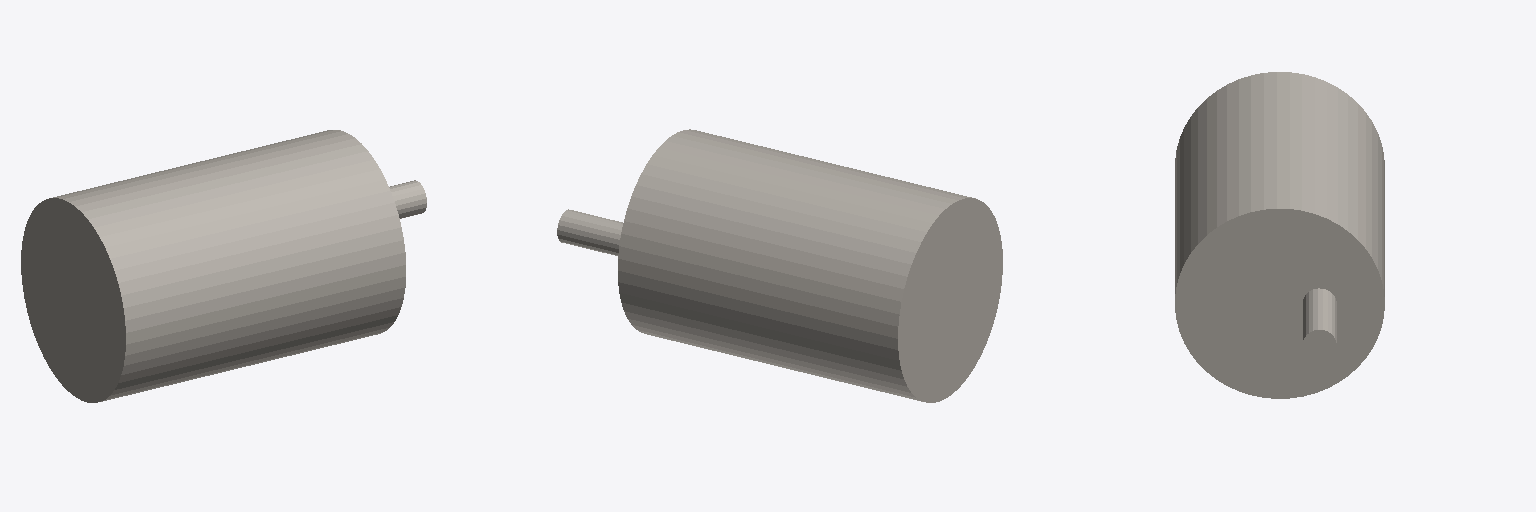
The model's file is fr_motor_visual.obj.
The picture shows the model from 3 angles: view 1: azimuth 30°, elevation 25°; view 2: azimuth 150°, elevation 25°; view 3: azimuth 270°, elevation 25°; orthographic projection.
Parts seen in each view (by area): view 1: fr_motor; view 2: fr_motor; view 3: fr_motor.
Boxes of the visible parts, <box> form: fr_motor: <box>21,130,426,402</box>; fr_motor: <box>557,129,1002,402</box>; fr_motor: <box>1175,72,1384,398</box>.
Size of the model in its own units: 7.42 by 3.7 by 3.7.